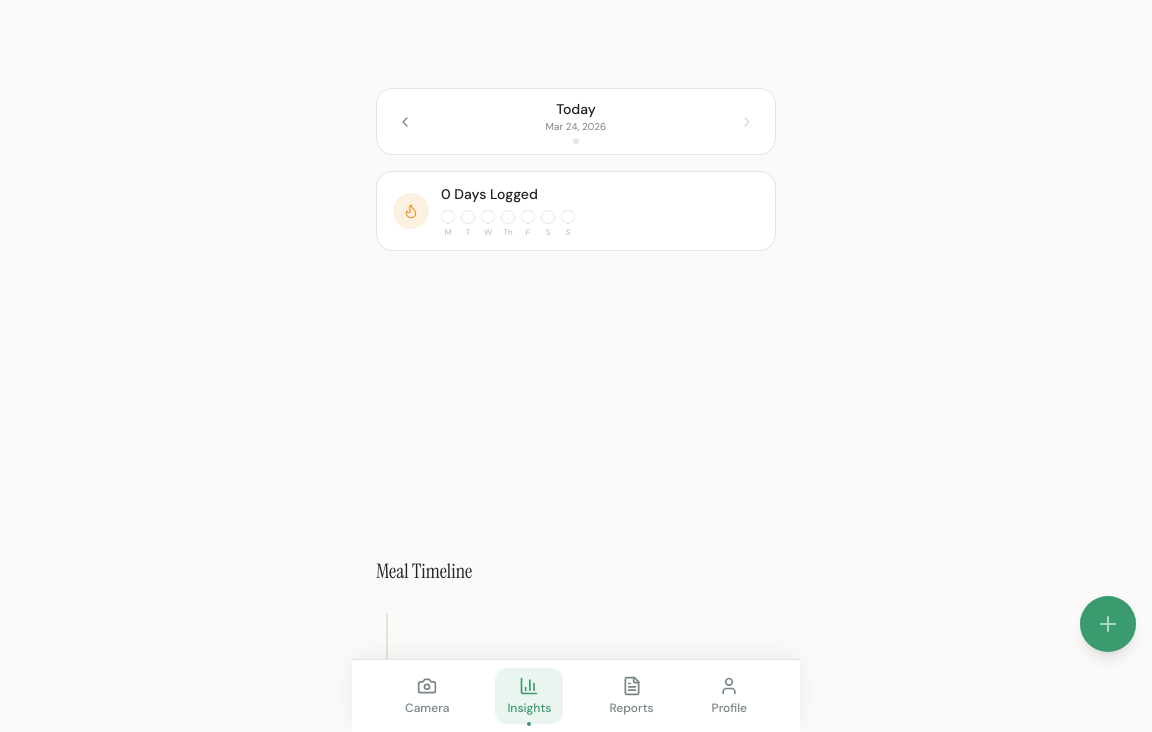
it: Insights page › date navigation works (prev button)
Expected: the text "Today" is shown, [556,100,596,118]
Click the button named "Previous day". click: [405, 122]
box: [393,110,417,134]
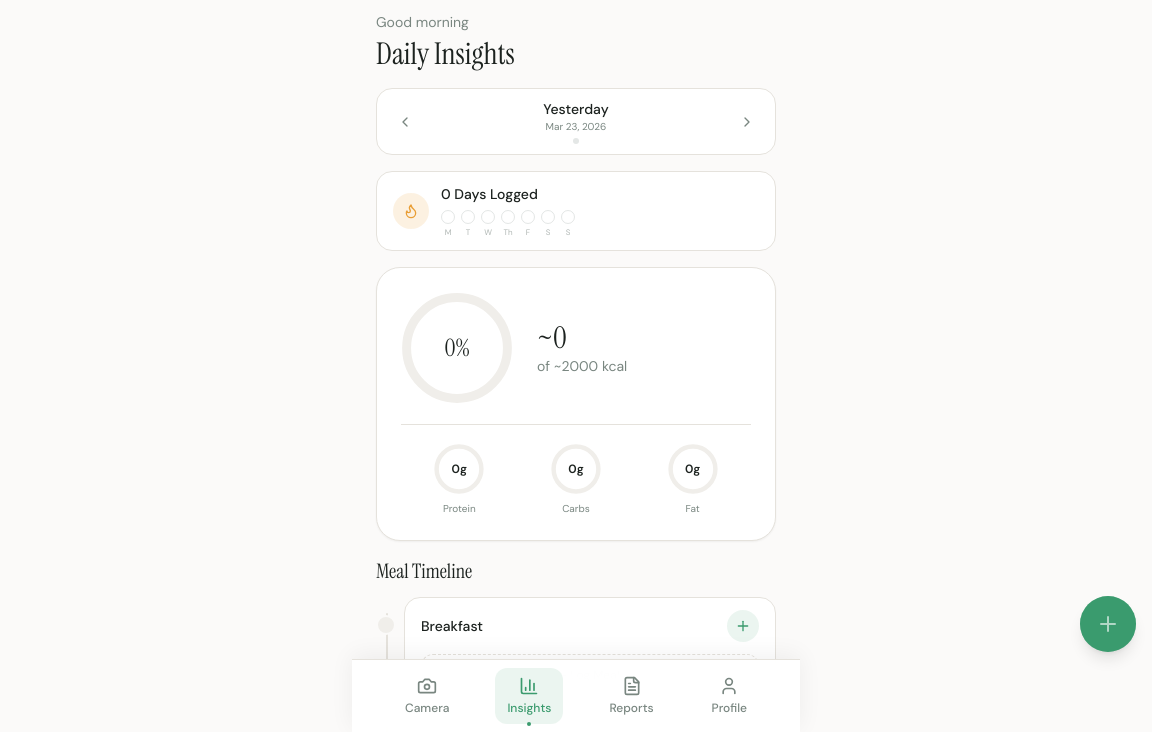
Expected: the text "Yesterday" is shown, [543,99,609,119]
